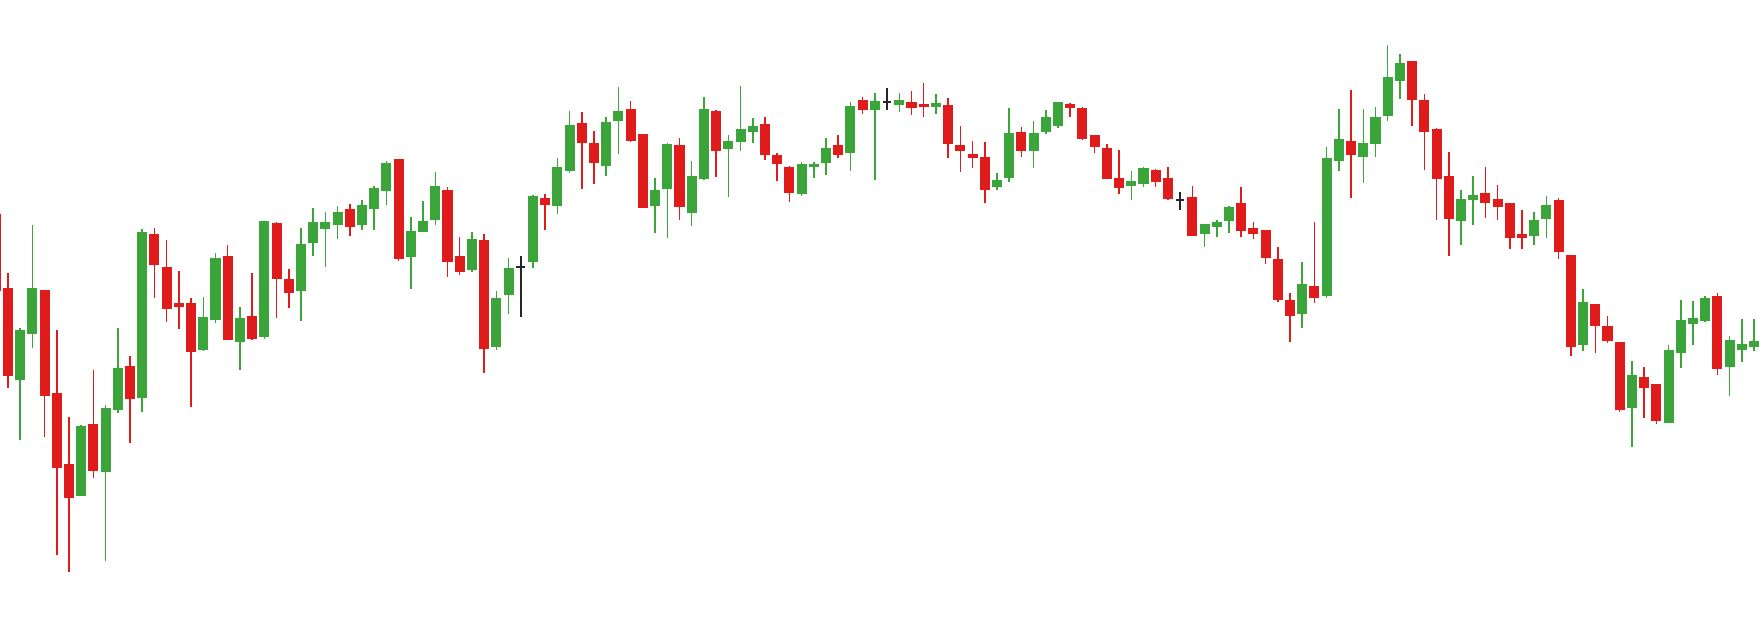buy: (281, 228, 504, 374)
